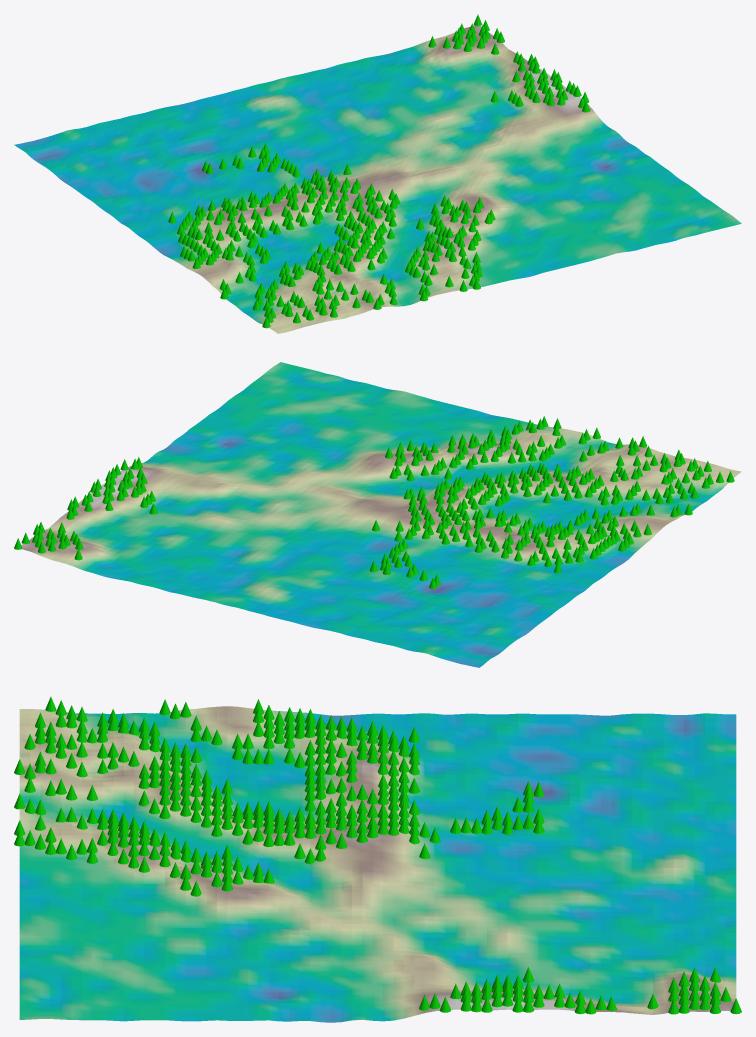
The model's file is 000009_with_tree.glb.
The picture shows the model from 3 angles, top to bottom: view 1: azimuth 30°, elevation 25°; view 2: azimuth 150°, elevation 25°; view 3: azimuth 270°, elevation 25°; orthographic projection. The views are drawn at different scales.
Parts seen in each view (by area): view 1: terrain, trees; view 2: terrain, trees; view 3: terrain, trees.
Part boxes in pixels (left/top/right/bottom): terrain: left=14, top=25, right=741, bottom=333; trees: left=168, top=14, right=590, bottom=328; terrain: left=21, top=362, right=741, bottom=667; trees: left=14, top=416, right=734, bottom=589; terrain: left=19, top=706, right=736, bottom=1022; trees: left=14, top=696, right=741, bottom=1014.
Bounding box in the file's own units: 0.0192 × 0.000843 × 0.0189.
